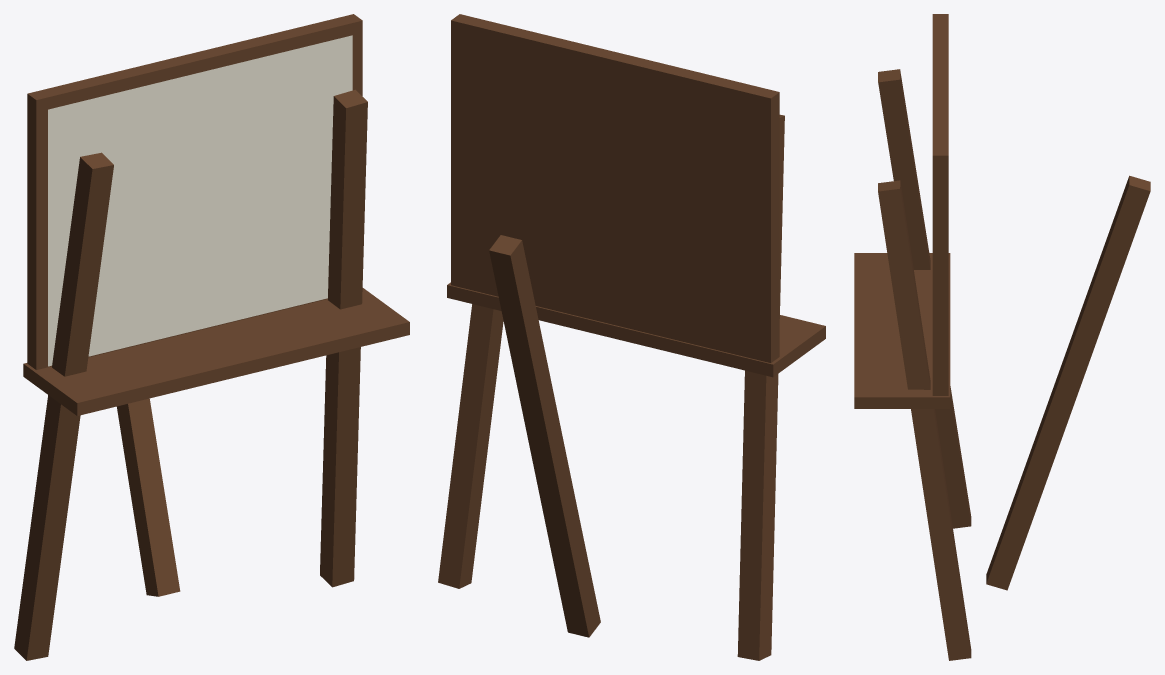
File: SM_Easel.fbx
3 renders of one model, left to right at view 1: azimuth 30°, elevation 25°; view 2: azimuth 150°, elevation 25°; view 3: azimuth 270°, elevation 25°, orthographic. The views are drawn at different scales.
Parts seen in each view (by area): view 1: Canvas, Ledge, Leg_Right, Leg_Left, Board_Frame, Leg_Back; view 2: Board_Frame, Leg_Back, Leg_Right, Leg_Left, Ledge; view 3: Leg_Left, Leg_Back, Ledge, Leg_Right, Board_Frame.
Part boxes in pixels (x1,y1,x2,y2): Canvas: (48,35,352,366); Ledge: (23,288,409,415); Leg_Right: (14,152,113,660); Leg_Left: (320,89,367,587); Board_Frame: (27,14,362,369); Leg_Back: (117,398,180,596); Board_Frame: (451,14,779,362); Leg_Back: (489,235,600,637); Leg_Right: (737,114,784,660); Leg_Left: (438,304,503,588); Ledge: (447,282,825,377); Leg_Left: (878,180,971,660); Leg_Back: (986,175,1150,590); Ledge: (854,253,950,408); Leg_Right: (878,69,971,528); Board_Frame: (932,14,948,395).
Size of the model in its own units: 1.07 by 1.75 by 0.9273.
